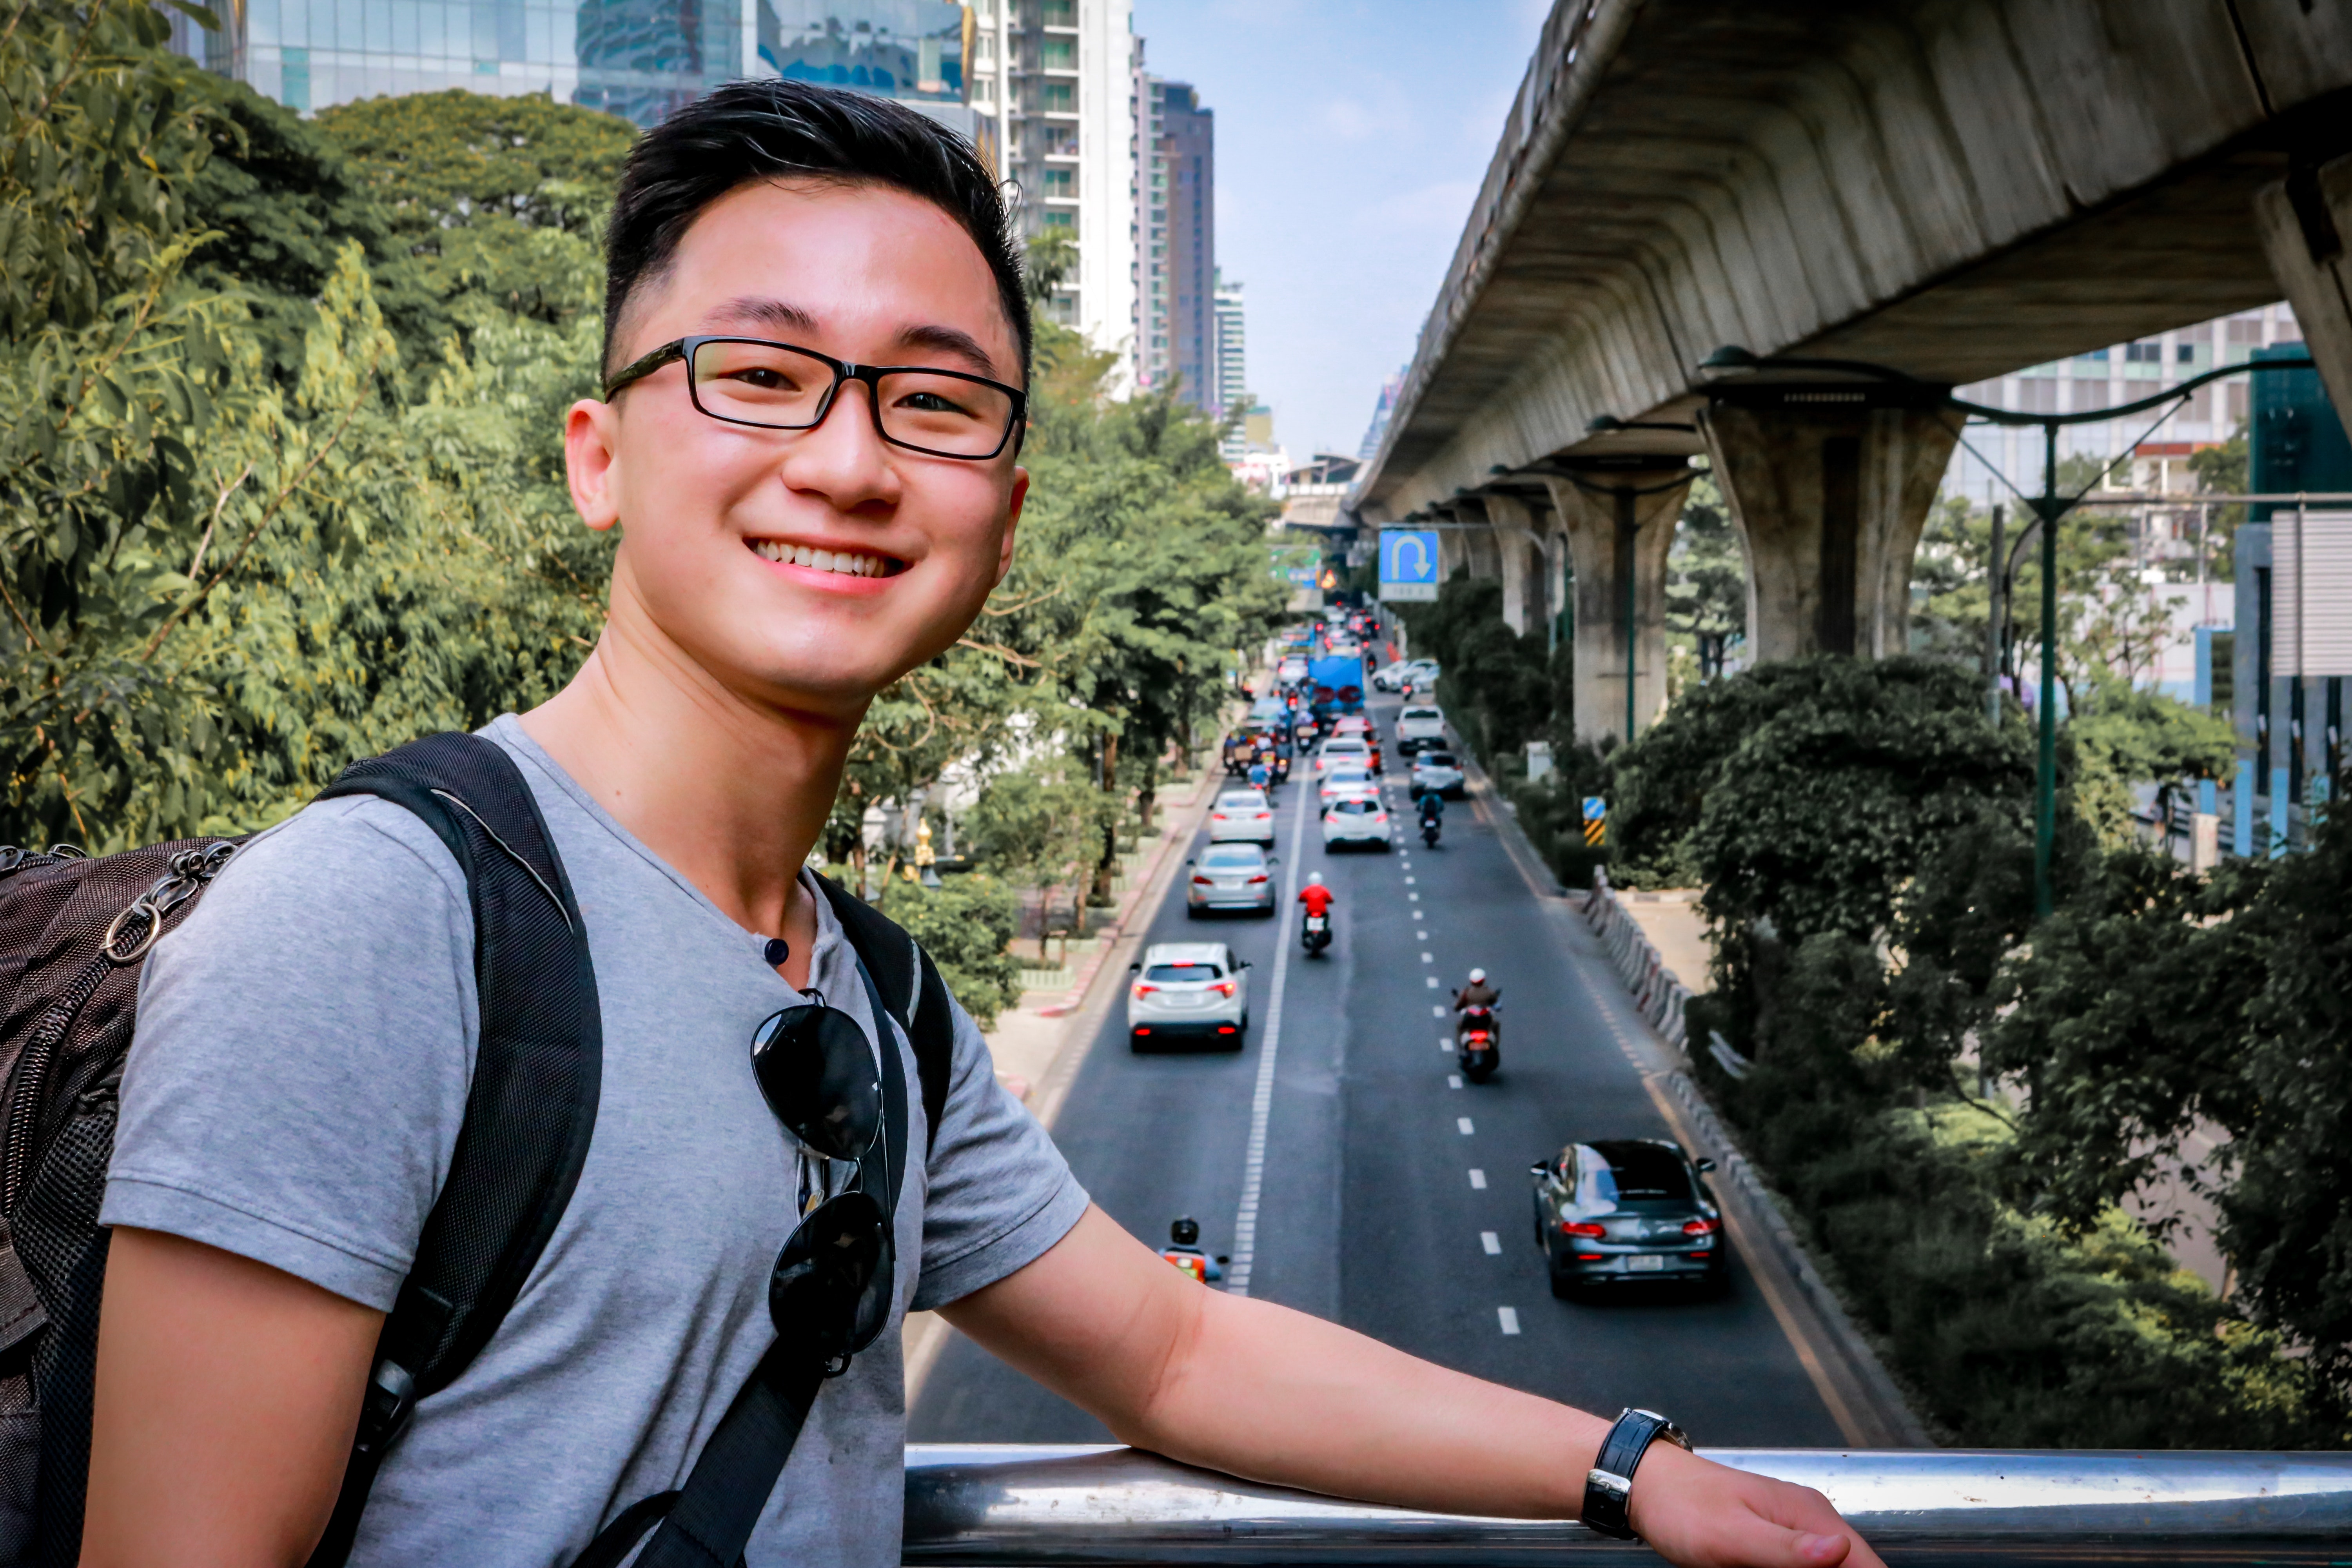bike: (1456, 968, 1499, 1072), (1289, 879, 1339, 954)
car: (1521, 1140, 1724, 1290), (1124, 940, 1243, 1051), (1187, 847, 1267, 913), (1318, 796, 1390, 850)
person: (55, 82, 1033, 1568)
